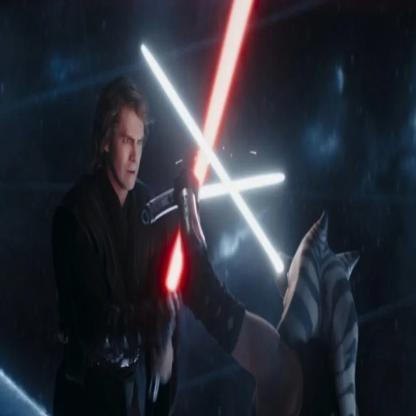lightsaber: (143, 0, 256, 397), (136, 43, 287, 283), (139, 171, 291, 229)
